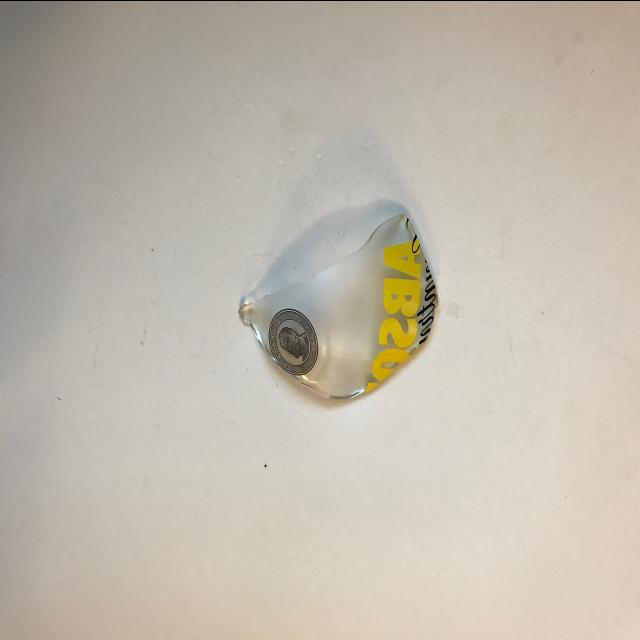glass: (240, 197, 442, 409)
